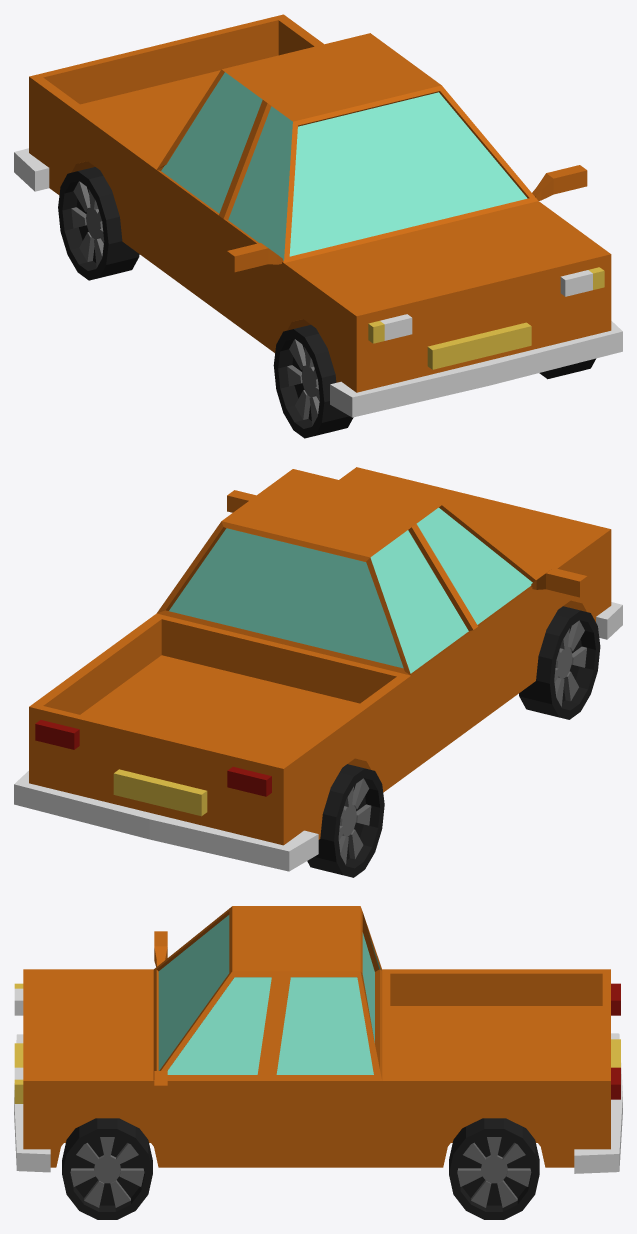
Rendered from PickupTruck.fbx.
3 views of the same model, one above another, from view 1: azimuth 30°, elevation 25°; view 2: azimuth 150°, elevation 25°; view 3: azimuth 270°, elevation 25° (orthographic). The views are drawn at different scales.
Visible parts, largest first — view 1: Mirrors.002; view 2: Mirrors.002; view 3: Mirrors.002.
Part boxes in pixels (box(x1,y1,x2,y2)): Mirrors.002: box(14, 14, 622, 438); Mirrors.002: box(14, 467, 622, 877); Mirrors.002: box(14, 906, 622, 1219).
Size of the model in its own units: 209 by 349 by 140.
